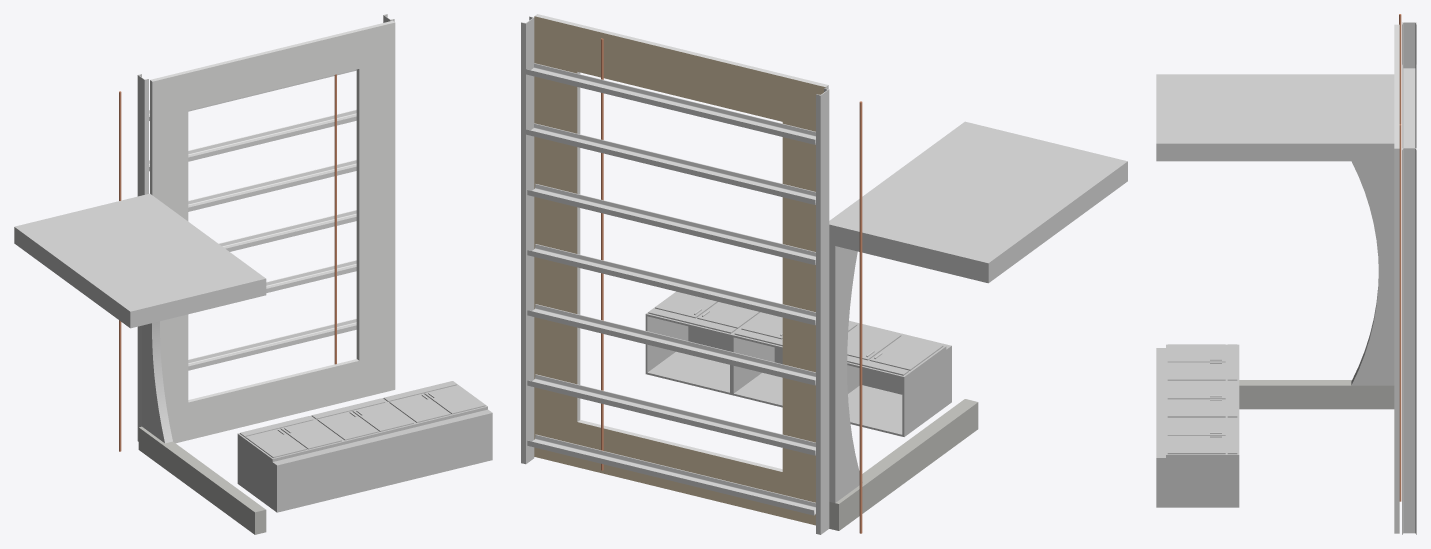
File: Arch_Level1.glb
3 renders of one model, left to right at view 1: azimuth 30°, elevation 25°; view 2: azimuth 150°, elevation 25°; view 3: azimuth 270°, elevation 25°, orthographic. The views are drawn at different scales.
Visible parts, largest first — view 1: Mat_18986, Mat_18438, Mat_449947, Mat_128891, Mat_18939, Mat_164754; view 2: Mat_18960, Mat_128891, Mat_18438, Mat_449947, Mat_18939, Mat_18986, Mat_164754; view 3: Mat_18438, Mat_449947, Mat_128891, Mat_18939, Mat_18986, Mat_164754.
Boxes of the visible parts, x1=… form: Mat_18986: x1=150, y1=20, x2=395, y2=443; Mat_18438: x1=14, y1=193, x2=266, y2=443; Mat_449947: x1=237, y1=381, x2=492, y2=512; Mat_128891: x1=137, y1=14, x2=394, y2=441; Mat_18939: x1=138, y1=426, x2=266, y2=534; Mat_164754: x1=119, y1=74, x2=336, y2=451; Mat_18960: x1=534, y1=16, x2=825, y2=525; Mat_128891: x1=521, y1=16, x2=829, y2=534; Mat_18438: x1=829, y1=121, x2=1127, y2=502; Mat_449947: x1=645, y1=291, x2=951, y2=436; Mat_18939: x1=829, y1=399, x2=978, y2=530; Mat_18986: x1=534, y1=14, x2=828, y2=471; Mat_164754: x1=601, y1=38, x2=862, y2=533; Mat_18438: x1=1156, y1=74, x2=1394, y2=385; Mat_449947: x1=1156, y1=344, x2=1239, y2=507; Mat_128891: x1=1402, y1=22, x2=1416, y2=534; Mat_18939: x1=1239, y1=380, x2=1394, y2=409; Mat_18986: x1=1394, y1=24, x2=1399, y2=533; Mat_164754: x1=1399, y1=14, x2=1401, y2=501.
Size of the model in its own units: 4.78 by 4.4 by 2.7.
